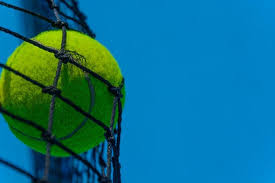tennis_ball: (1, 30, 126, 158)
